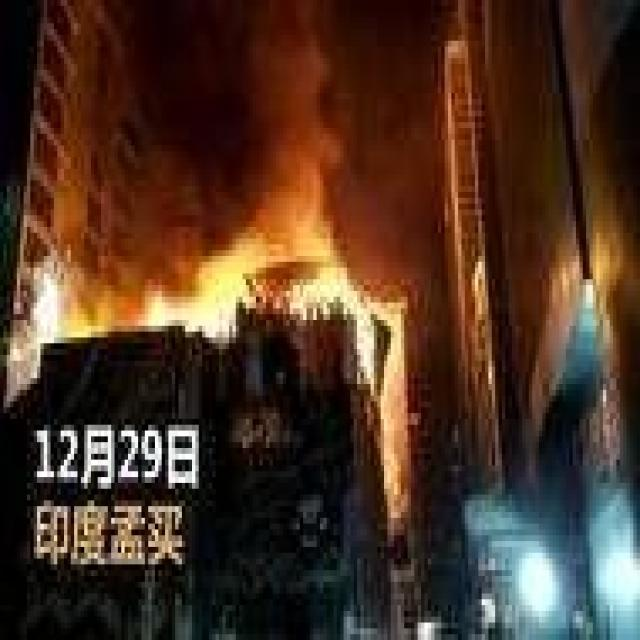fire: (42, 203, 397, 386)
other: (452, 435, 626, 620)
